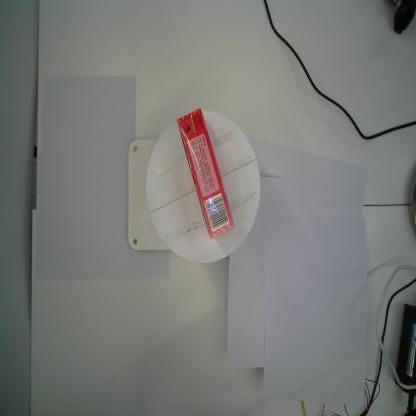Instant Drink: (177, 108, 235, 240)
